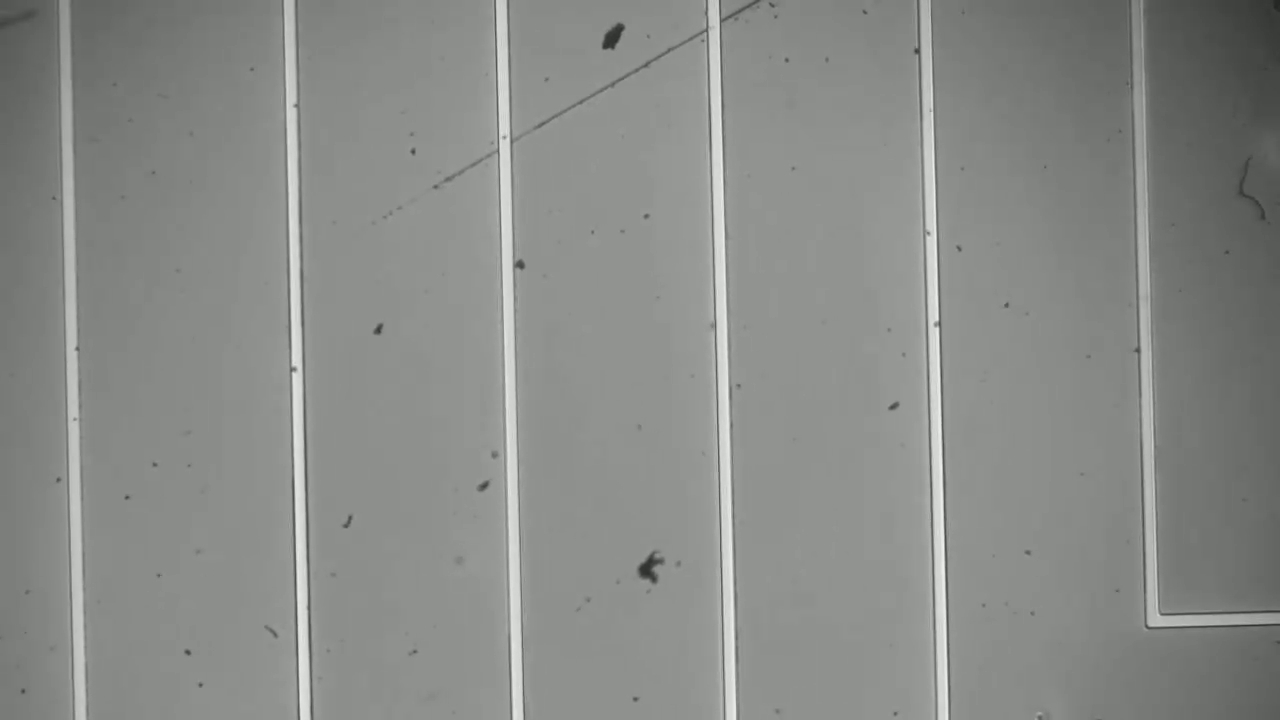scratch: (390, 1, 807, 229)
